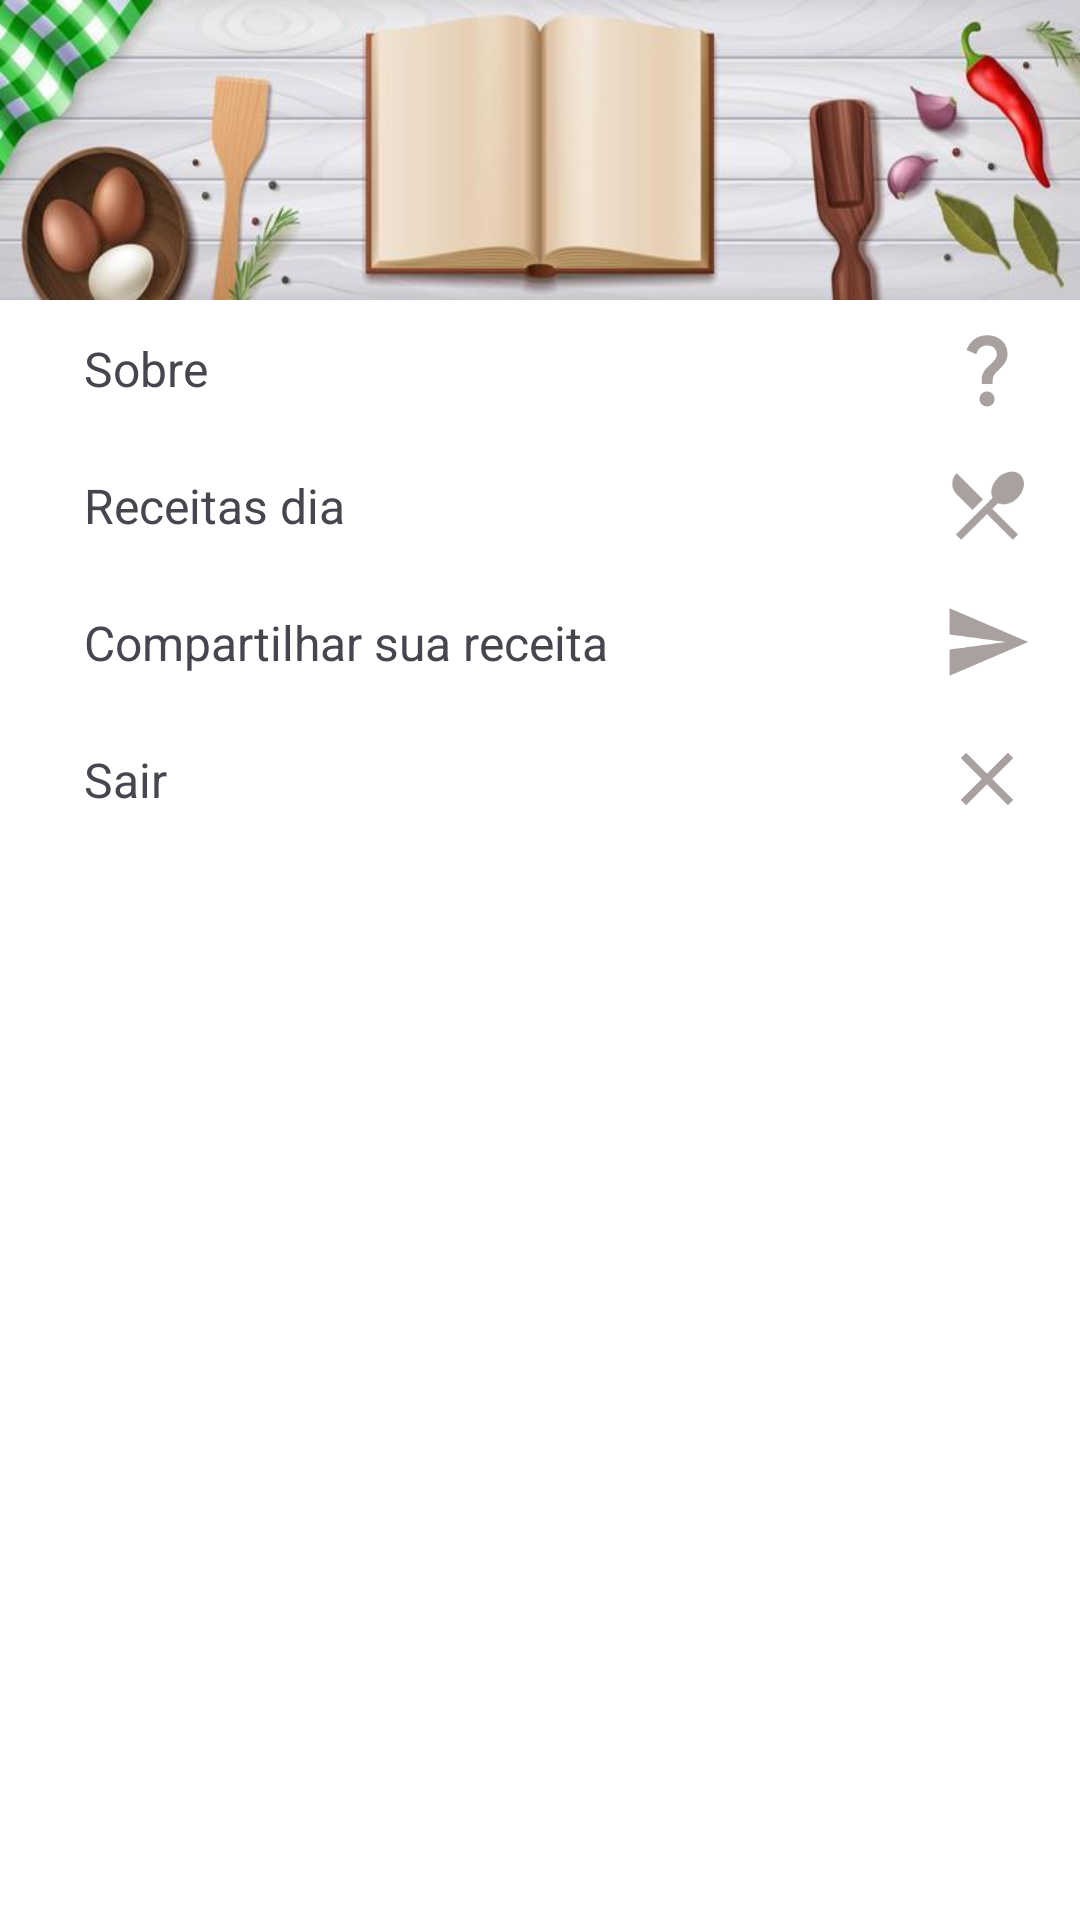

Icon click points for this 1080px x 1920px phone screenshot, format (x,y):
close: (987,779)
question: (987,371)
restaurant: (988,505)
send: (988,642)
